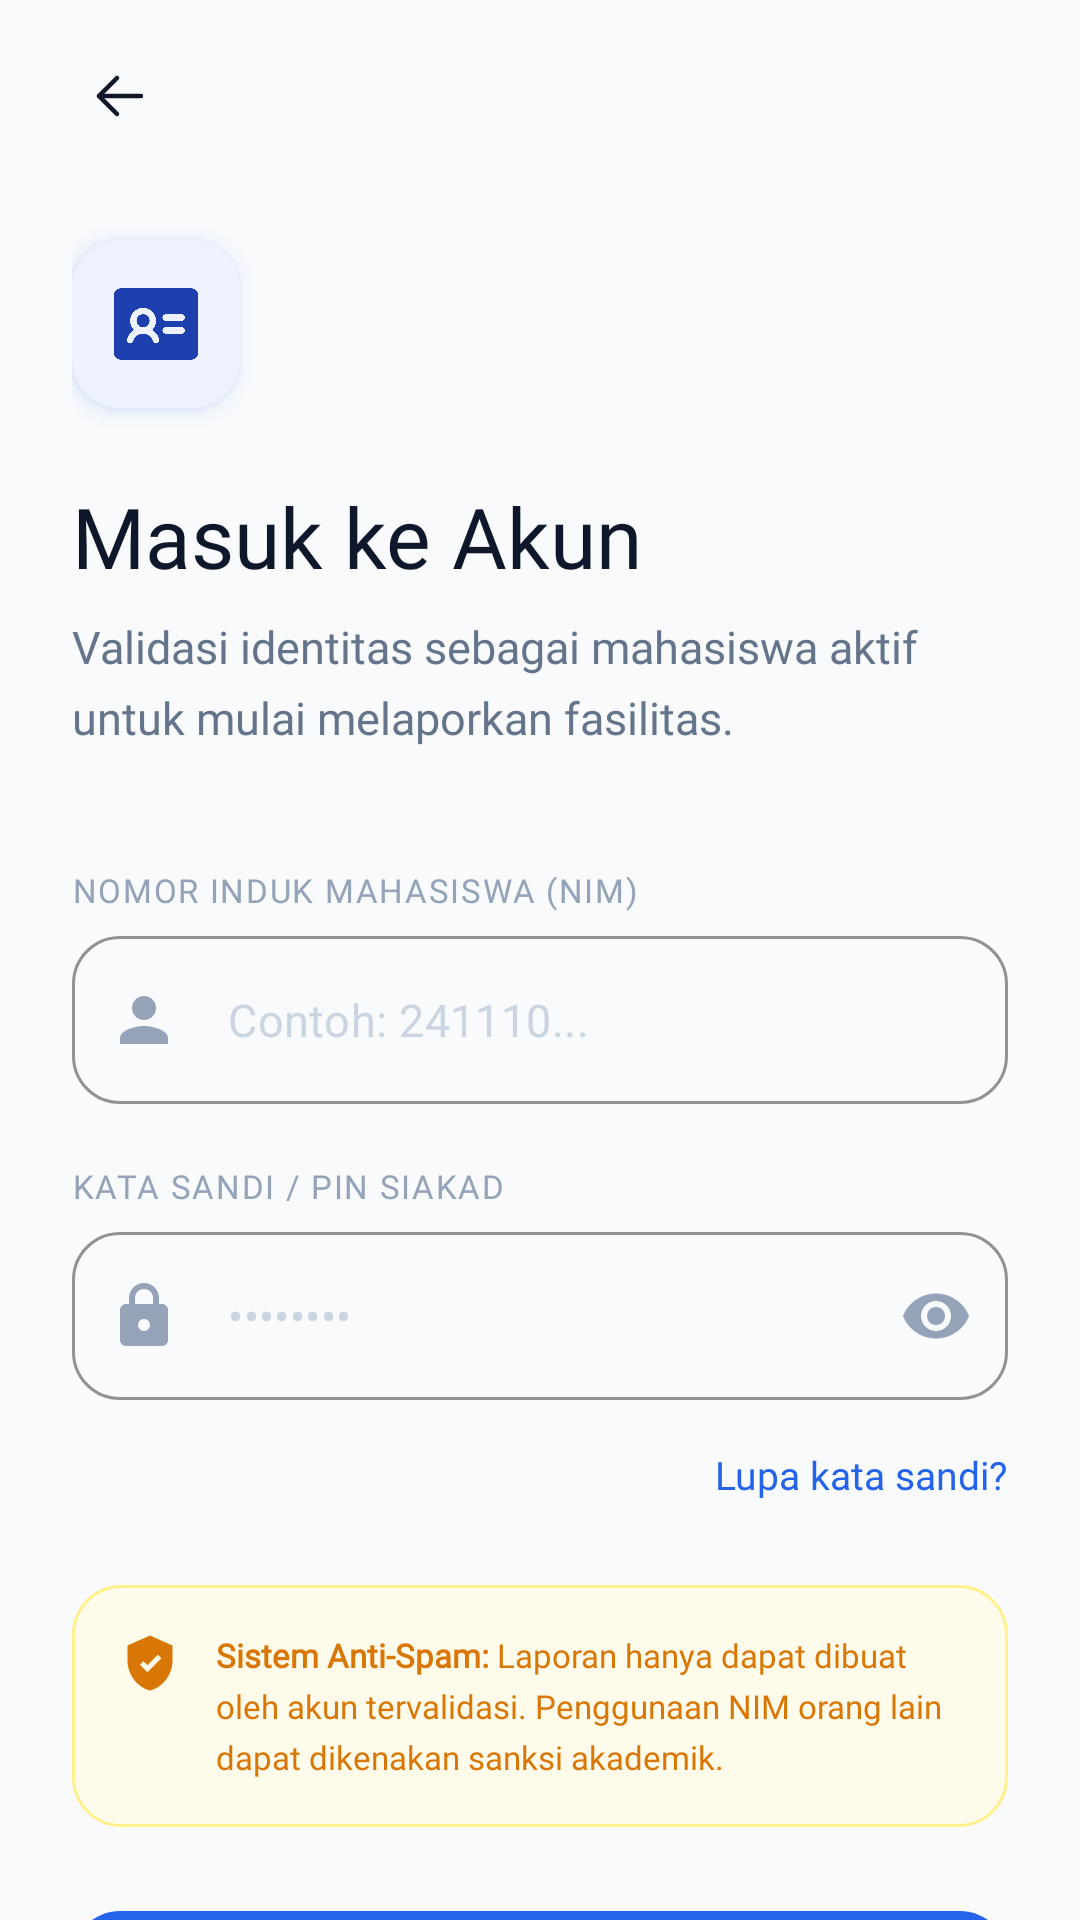

Icons on this 1080x1920 Android screen, each with the point to tap as [x,y]:
arrow back modern: [119,96]
id card: [156,324]
shield: [150,1663]
